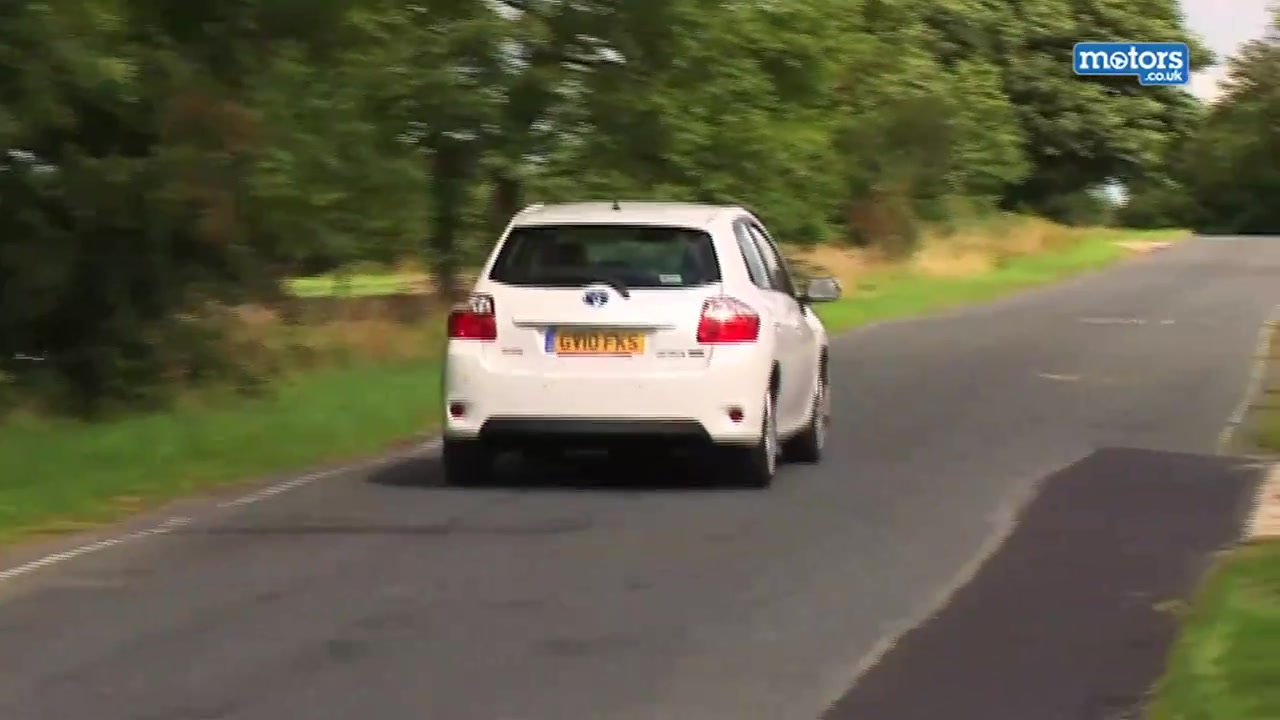car: (442, 197, 844, 482)
